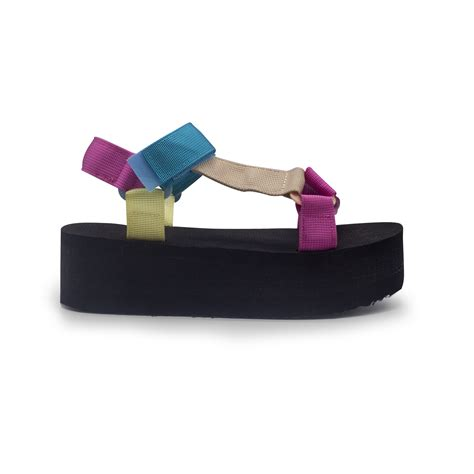nylon: (83, 122, 342, 246)
